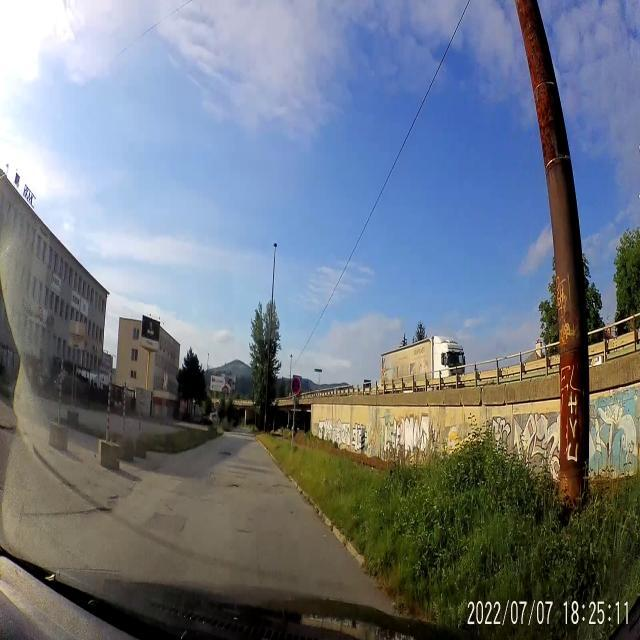Pothole: (223, 474, 248, 494), (214, 444, 237, 462)
